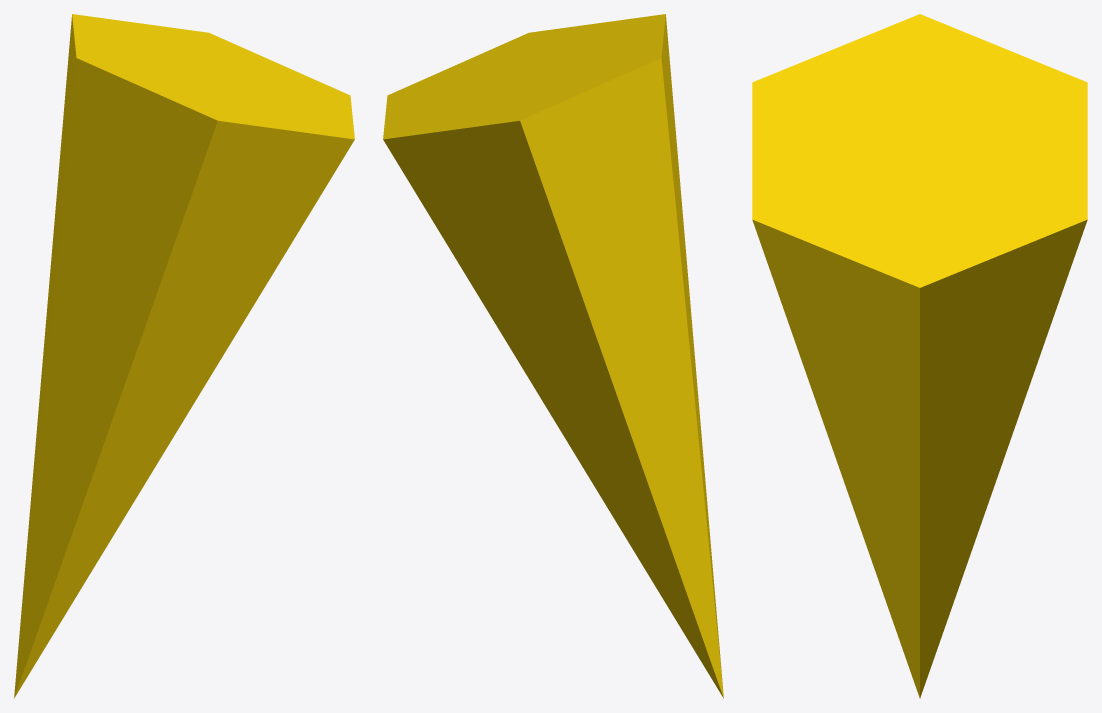
Rendered from confetti-cone5d688f71.glb.
3 renders of one model, left to right at view 1: azimuth 30°, elevation 25°; view 2: azimuth 150°, elevation 25°; view 3: azimuth 270°, elevation 25°, orthographic. The views are drawn at different scales.
Parts seen in each view (by area): view 1: confettiCone1; view 2: confettiCone1; view 3: confettiCone1.
Boxes of the visible parts, <box> form: confettiCone1: <box>14,14,354,698</box>; confettiCone1: <box>383,14,723,698</box>; confettiCone1: <box>752,14,1087,698</box>.
Bounding box in the file's own units: 0.5769 × 1.03 × 0.433.
